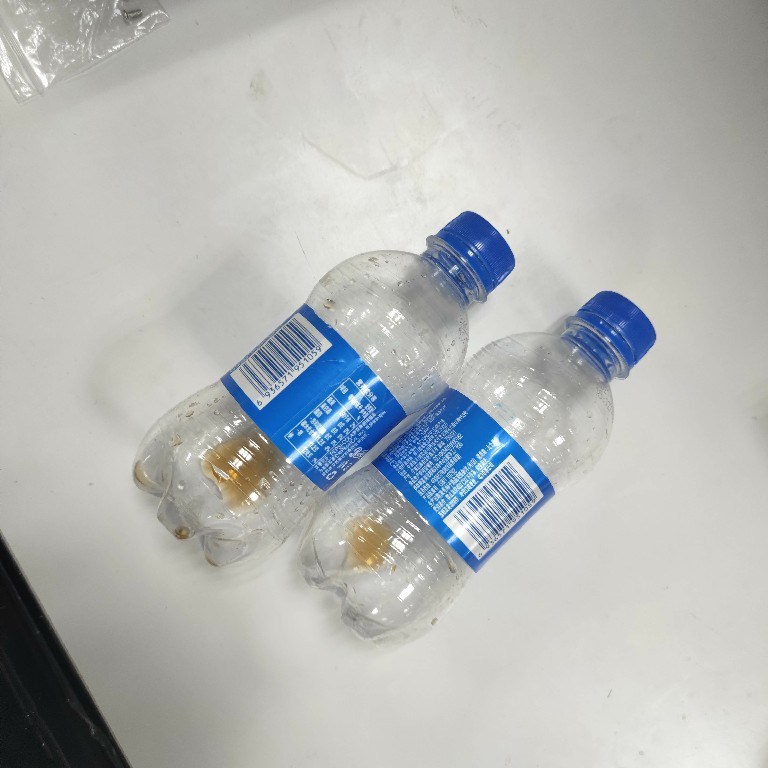bottle: (131, 208, 519, 572), (290, 286, 659, 651)
